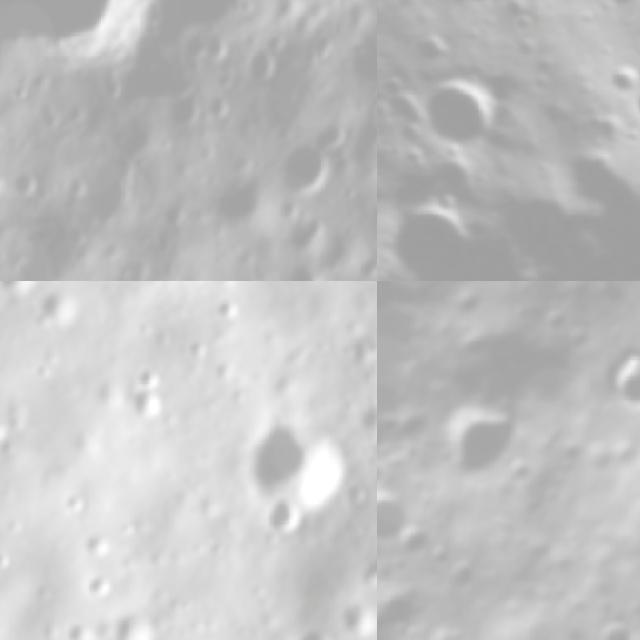crater: (377, 117, 640, 281), (377, 281, 467, 500), (414, 378, 535, 502), (404, 57, 518, 169), (243, 418, 354, 512), (0, 0, 139, 55), (280, 119, 352, 196), (377, 476, 426, 564), (377, 572, 435, 640), (595, 342, 640, 425), (404, 17, 464, 74), (440, 550, 492, 604), (34, 284, 86, 330), (331, 591, 377, 640), (344, 24, 377, 90), (123, 386, 174, 428), (258, 489, 307, 532), (105, 601, 159, 640), (596, 56, 640, 103), (419, 534, 462, 582), (447, 0, 510, 30), (586, 606, 640, 640), (340, 321, 377, 370), (122, 360, 169, 395), (80, 566, 116, 611), (81, 523, 118, 563), (616, 74, 640, 131), (377, 442, 397, 508), (58, 482, 93, 519), (250, 40, 280, 80), (208, 292, 243, 326), (286, 620, 338, 640), (357, 539, 377, 590), (0, 281, 43, 303), (64, 617, 100, 640), (269, 268, 332, 281), (358, 397, 377, 439), (5, 512, 26, 537), (0, 542, 16, 573), (0, 410, 11, 449)
